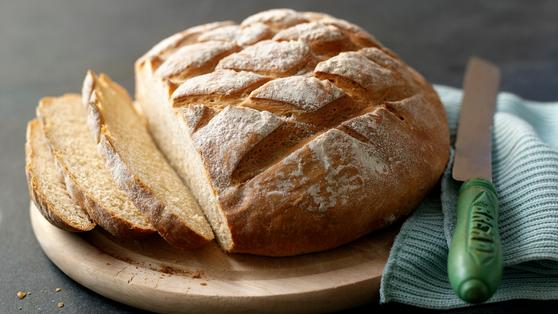white_bread: (126, 12, 453, 245)
